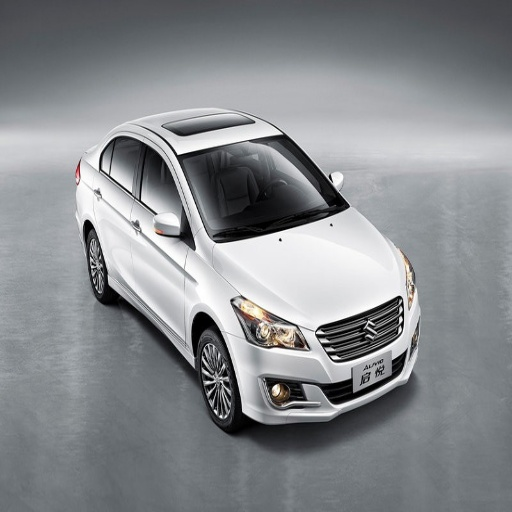front_bumper: (227, 329, 413, 423)
front_right_door: (133, 135, 184, 334)
front_right_light: (231, 297, 308, 349)
hood: (213, 210, 411, 359)
